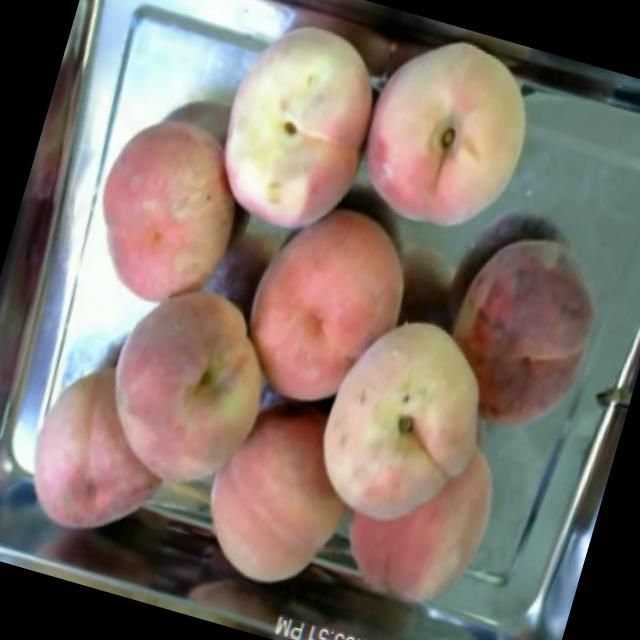Fruit: (74, 257, 307, 516), (212, 174, 438, 436), (289, 292, 518, 550), (57, 88, 278, 336), (184, 0, 396, 255), (414, 208, 630, 457), (342, 14, 558, 258), (174, 386, 376, 611), (0, 332, 198, 561), (318, 412, 516, 630)
